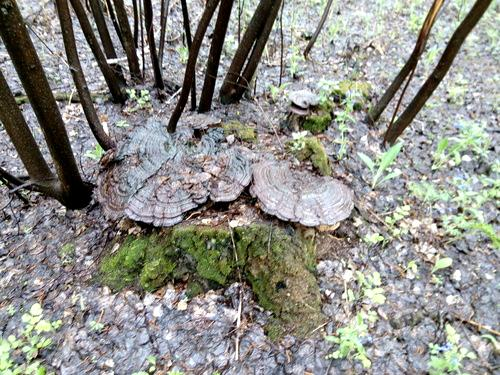Ganoderma - Fruit Body: (99, 118, 251, 232), (255, 150, 354, 225)
